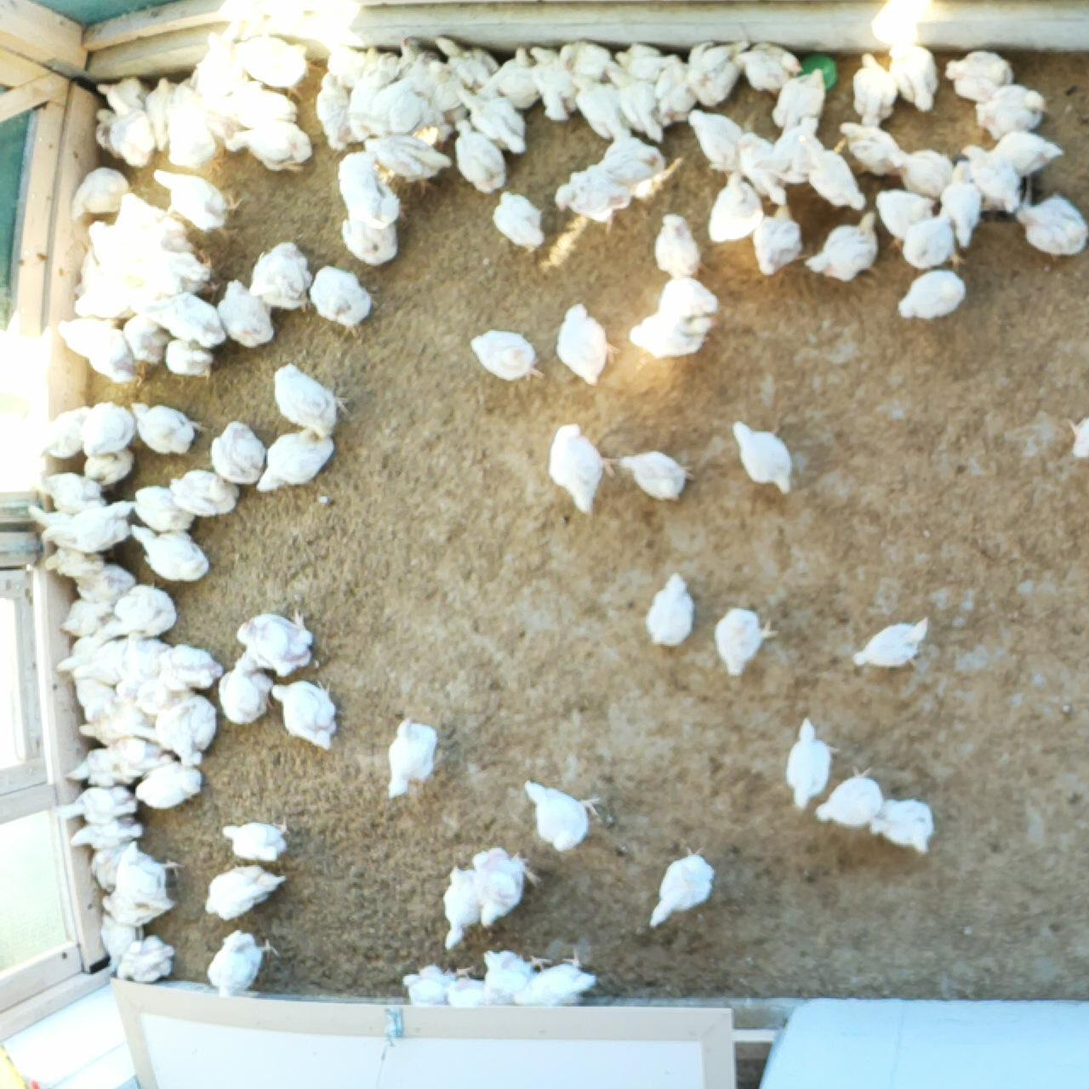chicken: (151, 167, 247, 246), (100, 838, 182, 927), (547, 421, 622, 515), (231, 32, 322, 103), (522, 778, 603, 855), (341, 40, 402, 140), (783, 714, 844, 814), (646, 845, 716, 931), (804, 210, 887, 282), (728, 418, 799, 500), (232, 609, 319, 675), (470, 846, 540, 928), (273, 362, 348, 438), (363, 129, 450, 194), (111, 190, 190, 261), (1014, 191, 1089, 265), (348, 73, 425, 145), (217, 120, 316, 175), (205, 926, 280, 998), (554, 304, 619, 387), (335, 149, 403, 228), (797, 137, 865, 216), (161, 81, 220, 172), (151, 688, 218, 768), (271, 676, 341, 752), (604, 61, 668, 144), (201, 861, 288, 922), (256, 428, 336, 494), (556, 161, 632, 230), (138, 237, 219, 301), (515, 945, 596, 1008), (247, 240, 315, 315), (206, 79, 304, 131), (130, 523, 210, 586), (453, 87, 526, 156), (713, 604, 780, 678), (811, 764, 892, 825), (411, 59, 474, 137), (848, 615, 934, 672), (832, 121, 912, 182), (309, 265, 373, 341), (599, 133, 669, 202), (972, 85, 1052, 145), (525, 44, 585, 122), (567, 72, 630, 146), (129, 400, 208, 459), (215, 652, 277, 727), (385, 716, 441, 799), (684, 36, 750, 106), (869, 794, 942, 857), (133, 294, 223, 345), (734, 126, 788, 211), (936, 160, 985, 253), (618, 446, 696, 504), (56, 497, 134, 555), (481, 948, 551, 1012), (640, 570, 697, 648), (476, 43, 540, 112), (962, 143, 1026, 212), (771, 61, 827, 139), (897, 207, 964, 272), (82, 323, 146, 391), (765, 114, 827, 184), (105, 582, 181, 639), (707, 168, 764, 244), (449, 118, 506, 194), (885, 38, 942, 114), (214, 278, 275, 349), (943, 48, 1016, 107), (685, 107, 744, 178), (437, 866, 484, 954), (894, 264, 969, 319), (732, 38, 803, 96), (654, 277, 720, 339), (470, 328, 544, 382), (628, 311, 706, 362), (61, 745, 139, 795), (988, 130, 1066, 180), (752, 201, 803, 277), (69, 162, 134, 221), (167, 467, 240, 519), (853, 53, 901, 131), (192, 29, 246, 98), (398, 960, 469, 1012), (111, 931, 178, 986), (435, 32, 497, 91), (650, 211, 703, 280), (886, 144, 955, 197), (210, 419, 266, 484), (103, 736, 175, 785), (313, 71, 356, 153), (654, 51, 700, 126), (61, 783, 137, 828), (341, 214, 402, 269), (116, 632, 170, 694), (37, 467, 105, 516), (219, 818, 293, 863), (106, 107, 157, 172), (493, 188, 547, 249), (136, 759, 203, 808), (64, 282, 140, 325), (322, 42, 388, 91), (140, 76, 182, 153), (68, 815, 147, 855), (79, 399, 135, 455), (131, 485, 196, 533), (157, 645, 225, 690), (40, 404, 94, 459), (121, 312, 175, 367), (612, 41, 680, 84), (55, 627, 112, 677), (557, 36, 616, 84), (75, 631, 132, 680), (99, 910, 140, 978), (390, 32, 442, 85), (81, 216, 132, 270), (81, 440, 136, 489), (76, 562, 135, 607), (94, 73, 153, 118), (43, 543, 106, 584), (103, 695, 159, 741), (111, 657, 161, 707), (59, 594, 115, 638), (160, 336, 214, 381), (90, 840, 128, 902), (54, 315, 107, 359), (26, 499, 75, 545), (74, 251, 126, 294), (134, 675, 187, 717), (66, 675, 115, 720), (91, 108, 123, 161), (443, 974, 488, 1011), (76, 717, 123, 750), (1063, 413, 1089, 462)
